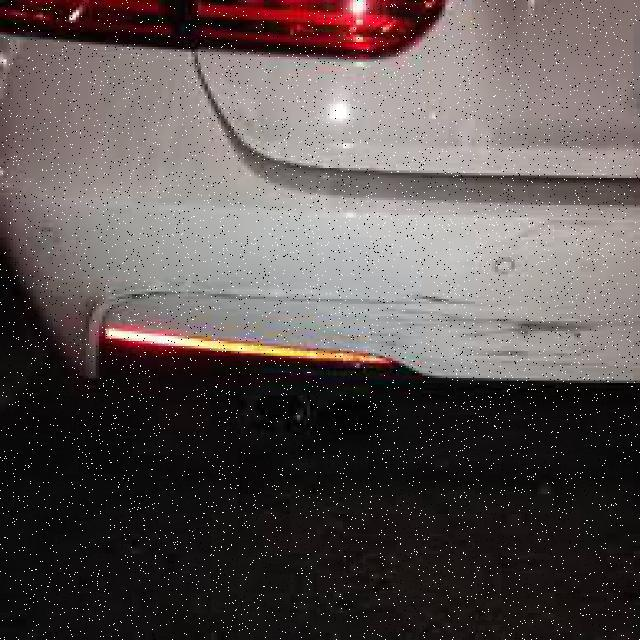rear-bumper-dent: (7, 37, 637, 460)
